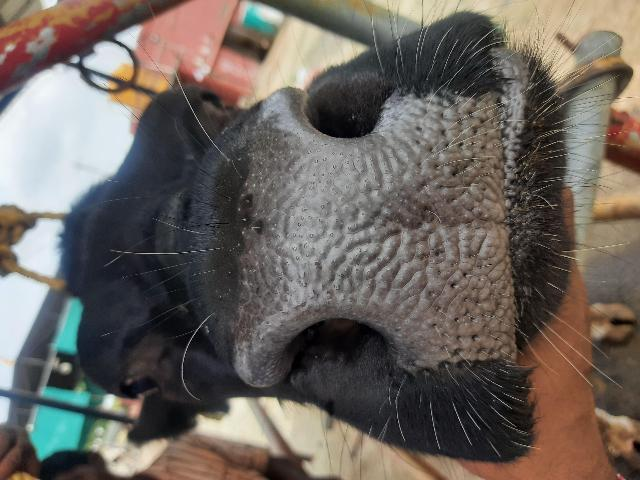Muzzle: (255, 110, 517, 362)
